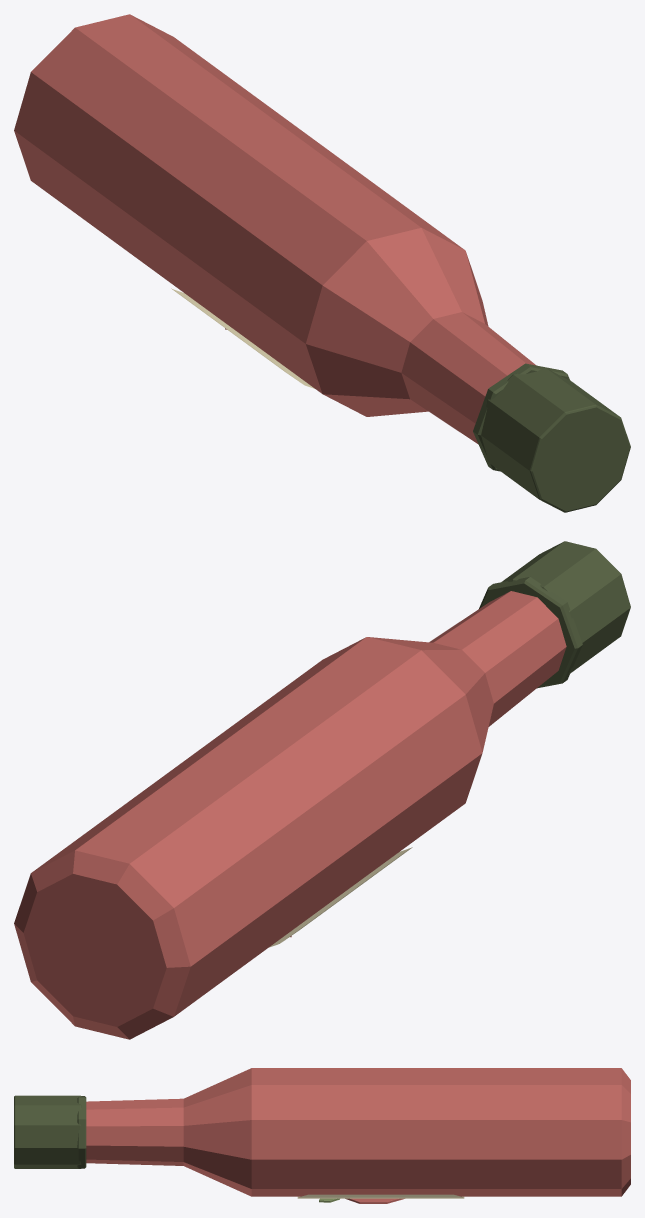
Rendered from hot_sauce.glb.
The picture shows the model from 3 angles, top to bottom: view 1: azimuth 30°, elevation 25°; view 2: azimuth 150°, elevation 25°; view 3: azimuth 270°, elevation 25°; orthographic projection. The views are drawn at different scales.
Parts seen in each view (by area): view 1: hot_sauce; view 2: hot_sauce; view 3: hot_sauce.
Part boxes in pixels (<box>): hot_sauce: <box>14,14,630,512</box>; hot_sauce: <box>14,541,630,1039</box>; hot_sauce: <box>14,1068,630,1203</box>.
Size of the model in its own units: 0.042 by 0.0433 by 0.2.
